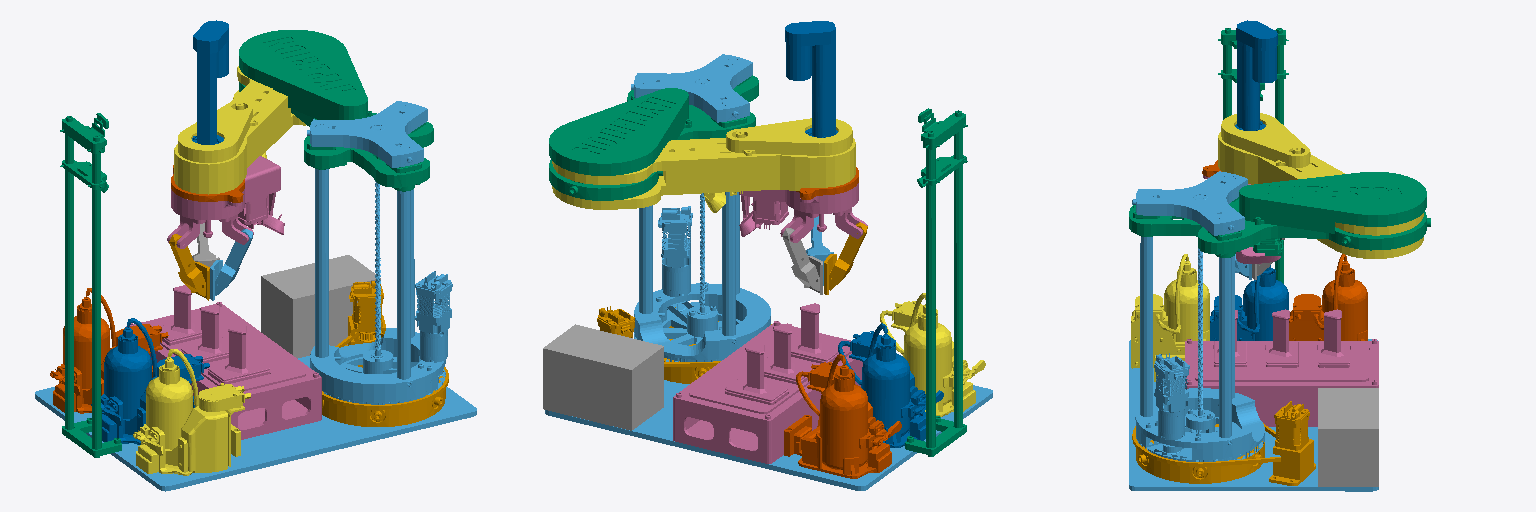
URDF robot description (sysmap):
<?xml version="1.0" encoding="UTF-8"?>

<robot name="sysmap">

    <link name="world"/>
    
    <link name="platine">
        <visual>
            <origin rpy="1.57 0.0 0.0" />
            <geometry>
                <mesh filename="package://klampt/meshes/1_Platine_optimized.stl"/>
            </geometry>
        </visual>
        <collision>
            <origin rpy="1.57 0.0 0.0" />
            <geometry>
                <mesh filename="package://klampt/meshes/1_Platine_convexHull.stl"/>
            </geometry>
        </collision>
    </link>

    <link name="aileron">
        <visual>
            <origin rpy="1.57 0.0 0.0" />
            <geometry>
                <mesh filename="package://klampt/meshes/2_SupportAileron_optimized.stl"/>
            </geometry>
        </visual>
        <collision>
            <origin rpy="1.57 0.0 0.0" />
            <geometry>
                <mesh filename="package://klampt/meshes/2_SupportAileron_convexHull.stl"/>
            </geometry>
        </collision>
    </link>

    <link name="stockage_liquide">
        <visual>
            <origin rpy="1.57 0.0 -3.6652" />
            <geometry>
                <mesh filename="package://klampt/meshes/3_ZoneStockage_liquide_optimized.stl"/>
            </geometry>
        </visual>
        <collision>
            <origin rpy="1.57 0.0 -3.6652" />
            <geometry>
                <mesh filename="package://klampt/meshes/3_ZoneStockage_liquide_convexHull.stl"/>
            </geometry>
        </collision>
    </link>

    <link name="stockage_liquide2">
        <visual>
            <origin rpy="1.57 0.0 -3.6652" />
            <geometry>
                <mesh filename="package://klampt/meshes/3_ZoneStockage_liquide_optimized.stl"/>
            </geometry>
        </visual>
        <collision>
            <origin rpy="1.57 0.0 -3.6652" />
            <geometry>
                <mesh filename="package://klampt/meshes/3_ZoneStockage_liquide_convexHull.stl"/>
            </geometry>
        </collision>
    </link>

    <link name="stockage_liquide3">
        <visual>
            <origin rpy="1.57 0.0 -3.6652" />
            <geometry>
                <mesh filename="package://klampt/meshes/3_ZoneStockage_liquide_optimized.stl"/>
            </geometry>
        </visual>
        <collision>
            <origin rpy="1.57 0.0 -3.6652" />
            <geometry>
                <mesh filename="package://klampt/meshes/3_ZoneStockage_liquide_convexHull.stl"/>
            </geometry>
        </collision>
    </link>

    <link name="electrique">
        <visual>
            <origin rpy="1.57 0.0 0.0" />
            <geometry>
                <mesh filename="package://klampt/meshes/5_ZoneElec_optimized.stl"/>
            </geometry>
        </visual>
        <collision>
            <origin rpy="1.57 0.0 0.0" />
            <geometry>
                <mesh filename="package://klampt/meshes/5_ZoneElec_convexHull.stl"/>
            </geometry>
        </collision>
    </link>

    <link name="batterie">
        <visual>
            <origin rpy="1.57 0.0 0.0" />
            <geometry>
                <mesh filename="package://klampt/meshes/6_ZoneBatterie.stl"/>
            </geometry>
        </visual>
        <collision>
            <origin rpy="1.57 0.0 0.0" />
            <geometry>
                <mesh filename="package://klampt/meshes/6_ZoneBatterie.stl"/>
            </geometry>
        </collision>
    </link>

    <link name="base">
        <visual>
            <origin rpy="1.57 0.0 0.0" />
            <geometry>
                <mesh filename="package://klampt/meshes/7_1_scara_base_optimized.stl"/>
            </geometry>
        </visual>
        <collision>
            <origin rpy="1.57 0.0 0.0" />
            <geometry>
                <mesh filename="package://klampt/meshes/7_1_scara_base_convexHull.stl"/>
            </geometry>
        </collision>
    </link>

    <link name="colonne">
        <visual>
            <origin rpy="1.57 0.0 0.0" />
            <geometry>
                <mesh filename="package://klampt/meshes/7_2_scara_colonne_optimized.stl"/>
            </geometry>
        </visual>
        <collision>
            <origin rpy="1.57 0.0 0.0" />
            <geometry>
                <mesh filename="package://klampt/meshes/7_2_scara_colonne_convexHull.stl"/>
            </geometry>
        </collision>
    </link>

    <link name="interne">
        <visual>
            <origin rpy="1.57 0.0 0.0" />
            <geometry>
                <mesh filename="package://klampt/meshes/7_3_scara_interne_optimized.stl"/>
            </geometry>
        </visual>
        <collision>
            <origin rpy="1.57 0.0 0.0" />
            <geometry>
                <mesh filename="package://klampt/meshes/7_3_scara_interne_convexHull.stl"/>
            </geometry>
        </collision>
    </link>

    <link name="externe">
        <visual>
            <origin rpy="1.57 0.0 0.0" />
            <geometry>
                <mesh filename="package://klampt/meshes/7_4_scara_externe_optimized.stl"/>
            </geometry>
        </visual>
        <collision>
            <origin rpy="1.57 0.0 0.0" />
            <geometry>
                <mesh filename="package://klampt/meshes/7_4_scara_externe_convexHull.stl"/>
            </geometry>
        </collision>
    </link>

    <link name="poignet">
        <visual>
            <origin rpy="1.57 0.0 0.0" />
            <geometry>
                <mesh filename="package://klampt/meshes/7_5_scara_poignet_optimized.stl"/>
            </geometry>
        </visual>
        <collision>
            <origin rpy="1.57 0.0 0.0" />
            <geometry>
                <mesh filename="package://klampt/meshes/7_5_scara_poignet_convexHull.stl"/>
            </geometry>
        </collision>
    </link>

    <link name="verin">
        <visual>
            <origin rpy="1.57 0.0 0.0" />
            <geometry>
                <mesh filename="package://klampt/meshes/7_6_scara_verin_optimized.stl"/>
            </geometry>
        </visual>
        <collision>
            <origin rpy="1.57 0.0 0.0" />
            <geometry>
                <mesh filename="package://klampt/meshes/7_6_scara_verin_convexHull.stl"/>
            </geometry>
        </collision>
    </link>

    <link name="pince_base">
        <visual>
            <origin rpy="1.57 0.0 0.0" />
            <geometry>
                <mesh filename="package://klampt/meshes/7_7_scara_pince_base_optimized.stl"/>
            </geometry>
        </visual>
        <collision>
            <origin rpy="1.57 0.0 0.0" />
            <geometry>
                <mesh filename="package://klampt/meshes/7_7_scara_pince_base_convexHull.stl"/>
            </geometry>
        </collision>
    </link>

    <link name="doigt1">
        <visual>
            <origin xyz="0.0 0.0 0.0" rpy="1.57 -2.094 0.0"/>
            <geometry>
                <mesh filename="package://klampt/meshes/7_7_scara_pince_doigt_optimized.stl"/>
            </geometry>
        </visual>
        <collision>
            <origin xyz="0.0 0.0 0.0" rpy="1.57 -2.094 0.0"/>
            <geometry>
                <mesh filename="package://klampt/meshes/7_7_scara_pince_doigt_convexHull.stl"/>
            </geometry>
        </collision>
    </link>

    <link name="doigt2">
        <visual>
            <origin xyz="0.0 0.0 0.0" rpy="1.57 -2.094 0.0"/>
            <geometry>
                <mesh filename="package://klampt/meshes/7_7_scara_pince_doigt_optimized.stl"/>
            </geometry>
        </visual>
        <collision>
            <origin xyz="0.0 0.0 0.0" rpy="1.57 -2.094 0.0"/>
            <geometry>
                <mesh filename="package://klampt/meshes/7_7_scara_pince_doigt_convexHull.stl"/>
            </geometry>
        </collision>
    </link>

    <link name="doigt3">
        <visual>
            <origin xyz="0.0 0.0 0.0" rpy="1.57 -2.094 0.0"/>
            <geometry>
                <mesh filename="package://klampt/meshes/7_7_scara_pince_doigt_optimized.stl"/>
            </geometry>
        </visual>
        <collision>
            <origin xyz="0.0 0.0 0.0" rpy="1.57 -2.094 0.0"/>
            <geometry>
                <mesh filename="package://klampt/meshes/7_7_scara_pince_doigt_convexHull.stl"/>
            </geometry>
        </collision>
    </link>

    <joint name="world_platine" type="fixed">
        <origin xyz="0.0 0.0 0.0" rpy="0.0 0.0 0.0"/>
        <parent link="world"/>
        <child link="platine"/>
    </joint>

    <joint name="platine_aileron" type="fixed">
        <origin xyz="-0.42 0.042 0.0" rpy="0.0 0.0 0.0"/>
        <parent link="platine"/>
        <child link="aileron"/>
    </joint>

    <joint name="platine_stockageLiquide" type="fixed">
        <origin xyz="-0.2789 -0.06397 0.0" rpy="0.0 0.0 0.0"/>
        <parent link="platine"/>
        <child link="stockage_liquide"/>
    </joint>

    <joint name="platine_stockageLiquide2" type="fixed">
        <origin xyz="-0.2789 0.05803 0.0" rpy="0.0 0.0 0.0"/>
        <parent link="platine"/>
        <child link="stockage_liquide2"/>
    </joint>

    <joint name="platine_stockageLiquide3" type="fixed">
        <origin xyz="-0.2789 0.18003 0.0" rpy="0.0 0.0 0.0"/>
        <parent link="platine"/>
        <child link="stockage_liquide3"/>
    </joint>

    <joint name="platine_electrique" type="fixed">
        <origin xyz="-0.1179 -0.004 0.0" rpy="0.0 0.0 0.0"/>
        <parent link="platine"/>
        <child link="electrique"/>
    </joint>

    <joint name="platine_batterie" type="fixed">
        <origin xyz="0.110 0.276 0.0" rpy="0.0 0.0 0.0"/>
        <parent link="platine"/>
        <child link="batterie"/>
    </joint>

    <joint name="platine_base" type="fixed">
        <origin xyz="0.0 0.0 0.0" rpy="0.0 0.0 0.0"/>
        <parent link="platine"/>
        <child link="base"/>
    </joint>

    <joint name="base_colonne" type="revolute">
        <origin xyz="0.0 0.0 0.03" rpy="0.0 0.0 -5.4044"/>
        <parent link="base"/>
        <child link="colonne"/>
        <axis xyz="0.0 0.0 1.0"/>
        <limit lower="0" upper="6.13" effort="0.0" velocity="0.0"/>
    </joint>

    <joint name="colonne_interne" type="prismatic">
        <origin xyz="0.0 0.0 0.391" rpy="0.0 0.0 0.0"/>
        <parent link="colonne"/>
        <child link="interne"/>
        <axis xyz="0.0 0.0 1.0"/>
        <limit lower="-0.2789" upper="0" effort="0.0" velocity="0.0"/>
    </joint>

    <joint name="interne_externe" type="revolute">
        <origin xyz="0.214559 0.163904 -0.005" rpy="0.0 0.0 2.48"/>
        <parent link="interne"/>
        <child link="externe"/>
        <axis xyz="0.0 0.0 -1.0"/>
        <limit lower="0.0" upper="4.54" effort="0.0" velocity="0.0"/>
    </joint>

    <joint name="externe_poignet" type="revolute">
        <origin xyz="0.29117 0.13275 0.030" rpy="0.0 0.0 2.36"/>
        <parent link="externe"/>
        <child link="poignet"/>
        <axis xyz="0.0 0.0 -1.0"/>
        <limit lower="0" upper="6.35" effort="0.0" velocity="0.0"/>
    </joint>

    <joint name="poignet_verin" type="prismatic">
        <origin xyz="0.0 0.0 -0.049" rpy="0.0 0.0 0.0"/>
        <parent link="poignet"/>
        <child link="verin"/>
        <axis xyz="0.0 0.0 1.0"/>
        <limit lower="-0.15" upper="0.0" effort="0.0" velocity="0.0"/>
    </joint>

    <joint name="verin_pince" type="fixed">
        <origin xyz="0.0 0.0 -0.025" rpy="-1.57 0.0 0.74"/>
        <parent link="verin"/>
        <child link="pince_base"/>
    </joint>

    <joint name="pince_doigt1" type="revolute">
        <origin xyz="0.02405 0.07176 0.05466" rpy="0.0 2.094 0.0"/>
        <parent link="pince_base"/>
        <child link="doigt1"/>
        <axis xyz="0.0 0.0 1.0"/>
        <limit lower="0" upper="0.8346" effort="0.0" velocity="0.0"/>
    </joint>

    <joint name="pince_doigt2" type="revolute">
        <origin xyz="-0.05936 0.07176 -0.0065" rpy="0.0 0.0 0.0"/>
        <parent link="pince_base"/>
        <child link="doigt2"/>
        <axis xyz="0.0 0.0 1.0"/>
        <limit lower="0" upper="0.8346" effort="0.0" velocity="0.0"/>
        <mimic joint="pince_doigt1" multiplier="1" offset="0"/>
    </joint>

    <joint name="pince_doigt3" type="revolute">
        <origin xyz="0.03531 0.07176 -0.04816" rpy="0.0 -2.094 0.0"/>
        <parent link="pince_base"/>
        <child link="doigt3"/>
        <axis xyz="0.0 0.0 1.0"/>
        <limit lower="0" upper="0.8346" effort="0.0" velocity="0.0"/>
        <mimic joint="pince_doigt1" multiplier="1" offset="0"/>
    </joint>

    <!-- <klampt package_root="../../" flip_yz="0" use_vis_geom="1"  freeze_root_link="0" > -->
</robot>

--- Render facts (derived) ---
3 views of the same robot in one strip: view 1: azimuth 30°, elevation 25°; view 2: azimuth 150°, elevation 25°; view 3: azimuth 270°, elevation 25° (orthographic).
Robot: sysmap — 18 links, 17 joints (6 revolute, 2 prismatic, 9 fixed); root link world; default pose: all joints at 0.
Visible links, largest first — view 1: colonne, electrique, interne, stockage_liquide, aileron, externe, platine, batterie, stockage_liquide2, pince_base, base, stockage_liquide3 (+4 smaller); view 2: colonne, electrique, externe, interne, batterie, stockage_liquide3, aileron, stockage_liquide2, platine, poignet, stockage_liquide, pince_base (+4 smaller); view 3: colonne, interne, electrique, externe, batterie, base, stockage_liquide, platine, stockage_liquide3, poignet, stockage_liquide2, aileron.
Boxes of the visible links, left/top/right/bottom form: colonne: left=307, top=101, right=452, bottom=404; electrique: left=126, top=285, right=321, bottom=439; interne: left=239, top=30, right=433, bottom=191; stockage_liquide: left=133, top=349, right=250, bottom=475; aileron: left=60, top=113, right=121, bottom=457; externe: left=174, top=66, right=305, bottom=194; platine: left=35, top=356, right=476, bottom=491; batterie: left=261, top=255, right=380, bottom=358; stockage_liquide2: left=91, top=318, right=209, bottom=444; pince_base: left=167, top=156, right=284, bottom=248; base: left=322, top=281, right=448, bottom=426; stockage_liquide3: left=50, top=288, right=168, bottom=413; colonne: left=631, top=54, right=770, bottom=361; electrique: left=673, top=303, right=862, bottom=463; externe: left=552, top=118, right=855, bottom=212; interne: left=549, top=75, right=758, bottom=200; batterie: left=543, top=324, right=663, bottom=430; stockage_liquide3: left=784, top=354, right=901, bottom=478; aileron: left=905, top=108, right=967, bottom=456; stockage_liquide2: left=838, top=323, right=943, bottom=447; platine: left=545, top=380, right=992, bottom=490; poignet: left=785, top=21, right=837, bottom=137; stockage_liquide: left=880, top=293, right=985, bottom=416; pince_base: left=739, top=183, right=867, bottom=242; colonne: left=1132, top=171, right=1264, bottom=461; interne: left=1129, top=172, right=1430, bottom=257; electrique: left=1185, top=309, right=1378, bottom=426; externe: left=1218, top=113, right=1423, bottom=258; batterie: left=1318, top=388, right=1378, bottom=486; base: left=1132, top=401, right=1315, bottom=485; stockage_liquide: left=1131, top=254, right=1209, bottom=381; platine: left=1129, top=339, right=1378, bottom=491; stockage_liquide3: left=1289, top=254, right=1367, bottom=340; poignet: left=1235, top=20, right=1277, bottom=130; stockage_liquide2: left=1210, top=265, right=1288, bottom=340; aileron: left=1218, top=28, right=1288, bottom=283.
Size in the robot's own frame: 0.58 by 0.4659 by 0.6292 metres.
Meshes: 13 distinct files referenced, 17 mesh visuals loaded (13 binary STL).